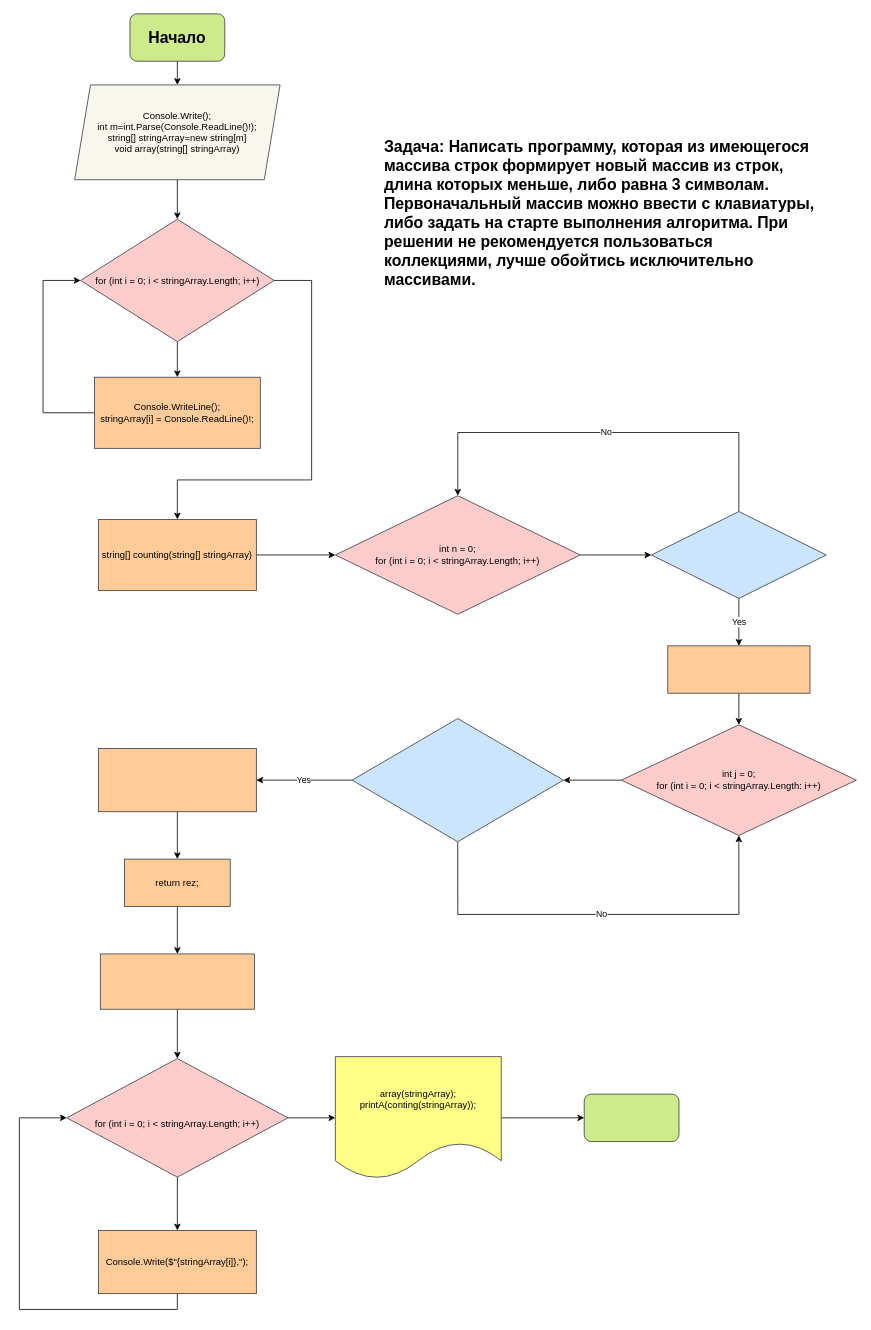
The diagram is 871 pixels wide and 1330 high, and some of its shapes have lost their labels. The shapes that lost their labels are listed below. From the top down, each one's box as (x1, y1, x2, y2) in pixels, then its label:
(651, 511, 826, 598): if (stringArray[i].Length <= 3) n++;
(667, 645, 810, 693): string[] rez = new string[n];
(98, 748, 256, 812): rez[j] = stringArray[i]; j++;
(351, 718, 563, 842): if (stringArray[i].Length <= 3)
(100, 953, 254, 1009): void printA(string[] stringArray)
(583, 1093, 679, 1142): Конец
